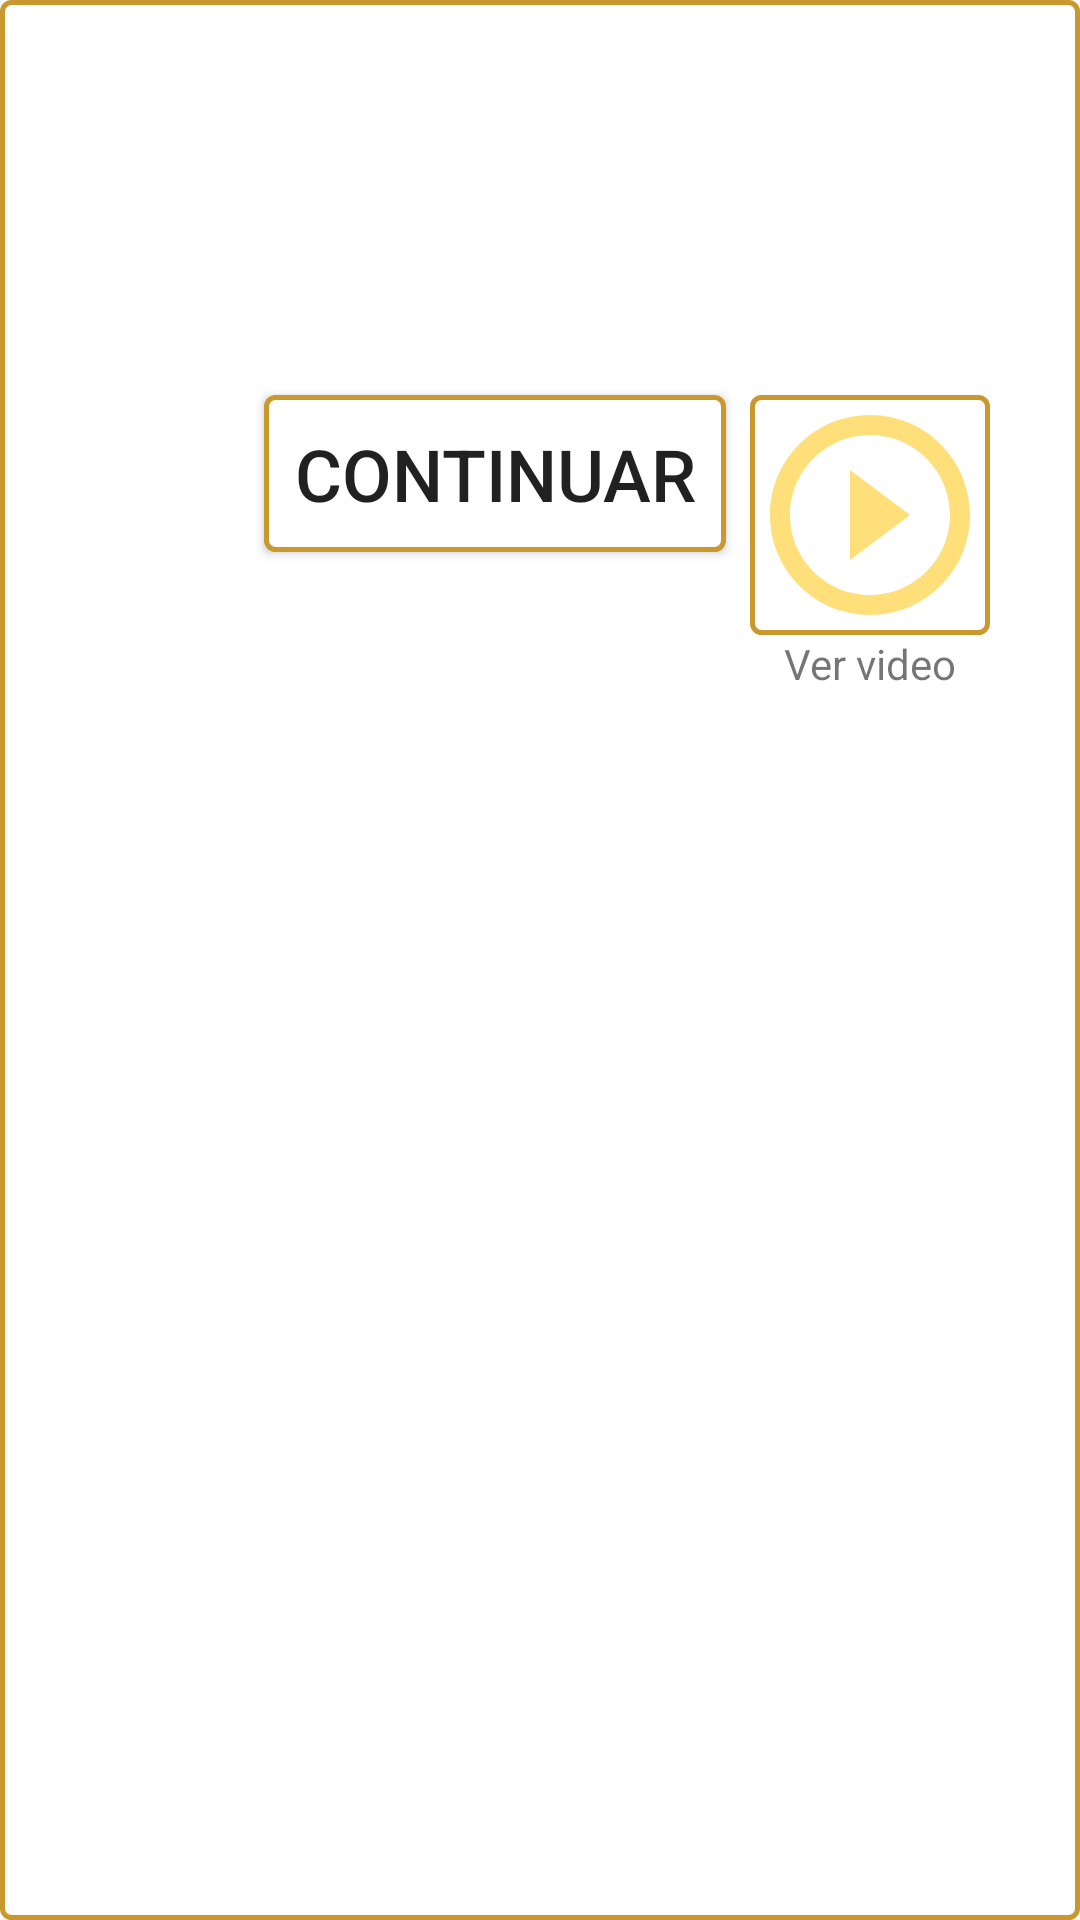

Where icons sit on this 1080×1920 app screen, as (x1, y1, x2, y2):
play circle: (750, 395, 990, 635)
